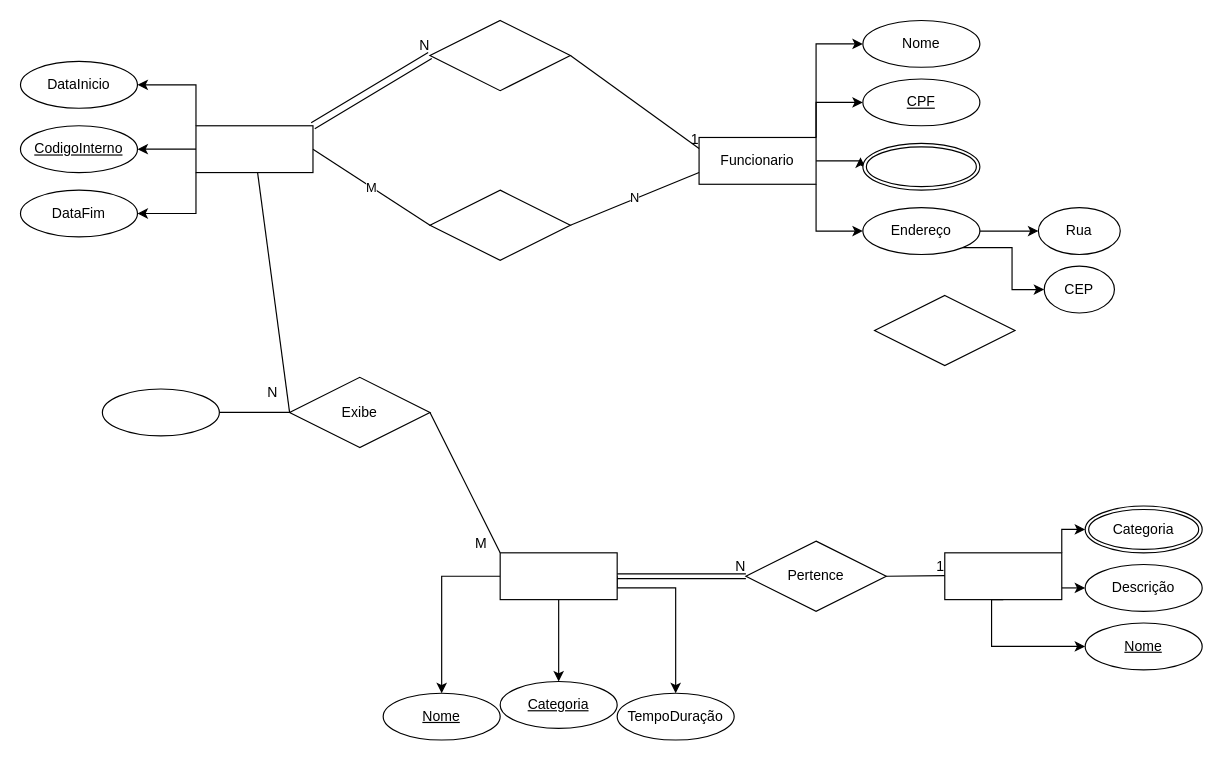
The diagram is 1223 pixels wide and 761 high, and some of its shapes have lost their labels. The shapes that lost their labels are listed below. From the top down, each one's centre as x and y in pixels, then its label:
At (x=499, y=55): "Coordena".
At (x=254, y=149): "Grade".
At (x=921, y=166): "Telefone".
At (x=499, y=224): "Colabora".
At (x=944, y=330): "Relationship".
At (x=160, y=412): "Horário".
At (x=558, y=576): "Programa".
At (x=1003, y=576): "Tipo".
